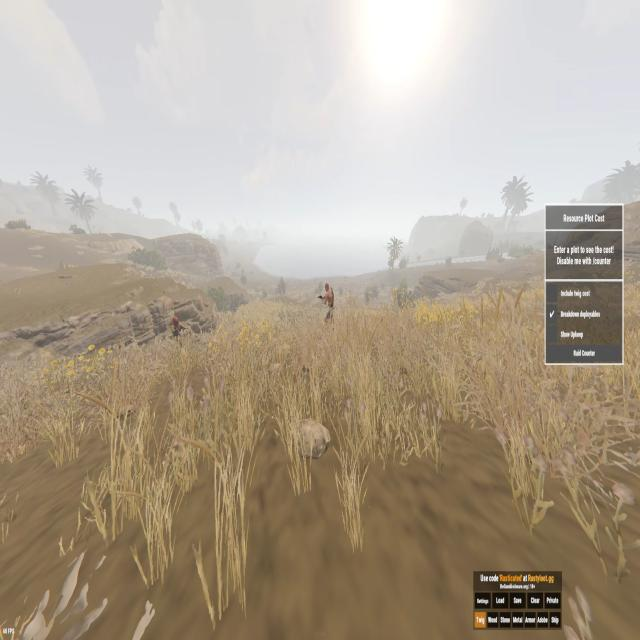Player: (323, 282, 334, 320), (170, 316, 185, 337)
